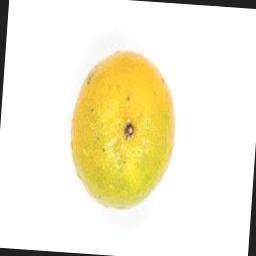Orange Ripe: (64, 45, 186, 214)
